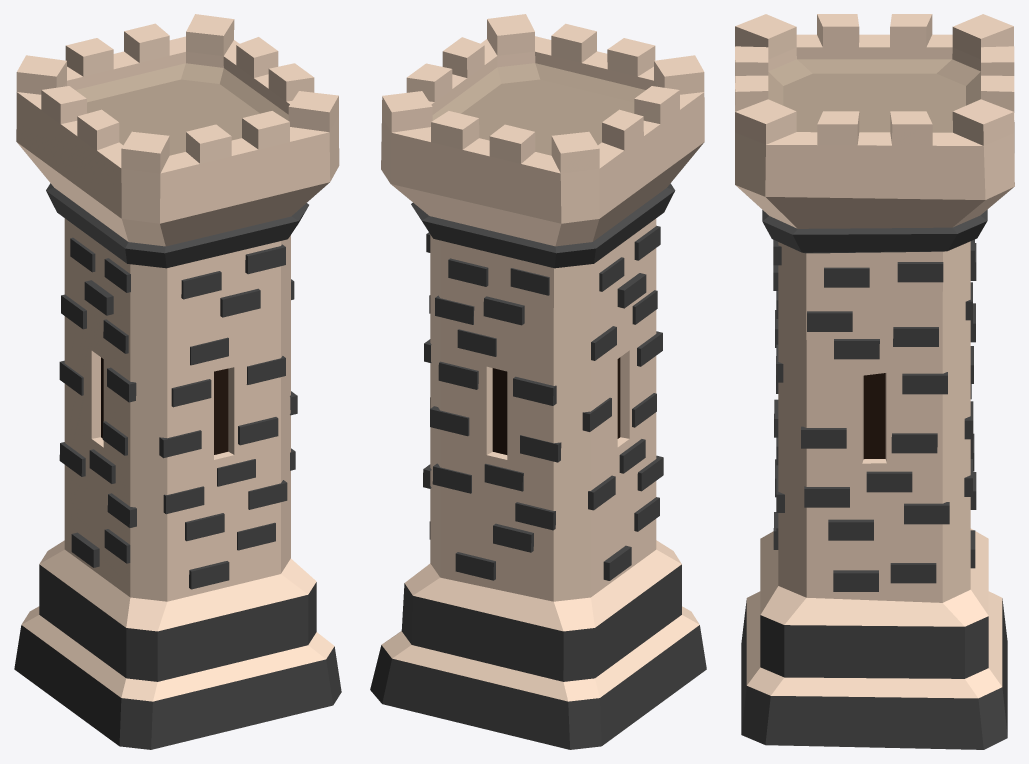
Rendered from tour-1 (source).glb.
3 renders of one model, left to right at view 1: azimuth 30°, elevation 25°; view 2: azimuth 150°, elevation 25°; view 3: azimuth 270°, elevation 25°, orthographic. The views are drawn at different scales.
Parts seen in each view (by area): view 1: Castle.004; view 2: Castle.004; view 3: Castle.004.
Part boxes in pixels (bbox=[...]): Castle.004: bbox=[14, 14, 341, 749]; Castle.004: bbox=[370, 14, 706, 749]; Castle.004: bbox=[735, 14, 1014, 749].
Size of what is drawn, in the model's own units: 4.15 by 10.23 by 4.18.
Materials: 1 (1 with a texture image).
